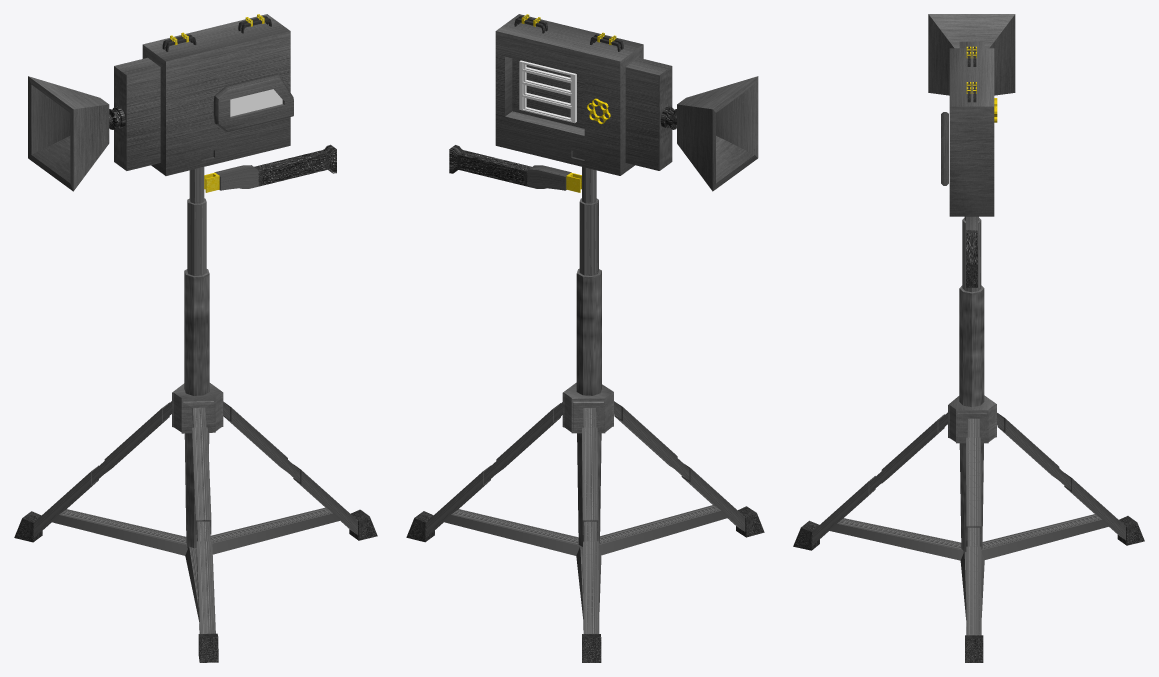
File: tripie.obj
The picture shows the model from 3 angles, left to right: view 1: azimuth 30°, elevation 25°; view 2: azimuth 150°, elevation 25°; view 3: azimuth 270°, elevation 25°; orthographic projection. The views are drawn at different scales.
Visible parts, largest first — view 1: FilmCam:polySurface1 polySurface13, FilmCam:polySurface1 polySurface21, FilmCam:polySurface1 polySurface25, FilmCam:polySurface1 polySurface15, FilmCam:polySurface1 polySurface12, FilmCam:polySurface1 polySurface19, textureEditorIsolateSelectSet FilmCam:polySurface1 polySurface15, FilmCam:polySurface1 polySurface22; view 2: FilmCam:polySurface1 polySurface13, FilmCam:polySurface1 polySurface21, FilmCam:polySurface1 polySurface25, FilmCam:polySurface1 polySurface15, FilmCam:polySurface1 polySurface19, FilmCam:polySurface1 polySurface2, textureEditorIsolateSelectSet FilmCam:polySurface1 polySurface15, FilmCam:polySurface1 polySurface24, FilmCam:polySurface1 polySurface23; view 3: FilmCam:polySurface1 polySurface21, FilmCam:polySurface1 polySurface13, FilmCam:polySurface1 polySurface15, FilmCam:polySurface1 polySurface25, FilmCam:polySurface1 polySurface19, FilmCam:polySurface1 polySurface12, FilmCam:polySurface1 polySurface23.
Part boxes in pixels (<box>): FilmCam:polySurface1 polySurface13: <box>114,14,290,175</box>; FilmCam:polySurface1 polySurface21: <box>34,383,357,633</box>; FilmCam:polySurface1 polySurface25: <box>184,167,209,548</box>; FilmCam:polySurface1 polySurface15: <box>28,76,109,191</box>; FilmCam:polySurface1 polySurface12: <box>213,74,293,132</box>; FilmCam:polySurface1 polySurface19: <box>214,144,336,190</box>; textureEditorIsolateSelectSet FilmCam:polySurface1 polySurface15: <box>31,136,70,182</box>; FilmCam:polySurface1 polySurface22: <box>198,633,218,662</box>; FilmCam:polySurface1 polySurface13: <box>495,14,672,175</box>; FilmCam:polySurface1 polySurface21: <box>426,382,745,633</box>; FilmCam:polySurface1 polySurface25: <box>576,167,601,547</box>; FilmCam:polySurface1 polySurface15: <box>677,76,758,191</box>; FilmCam:polySurface1 polySurface19: <box>449,145,571,190</box>; FilmCam:polySurface1 polySurface2: <box>519,60,576,123</box>; textureEditorIsolateSelectSet FilmCam:polySurface1 polySurface15: <box>716,136,754,182</box>; FilmCam:polySurface1 polySurface24: <box>582,634,601,662</box>; FilmCam:polySurface1 polySurface23: <box>406,511,434,542</box>; FilmCam:polySurface1 polySurface21: <box>812,395,1125,635</box>; FilmCam:polySurface1 polySurface13: <box>949,41,994,216</box>; FilmCam:polySurface1 polySurface15: <box>928,14,1015,95</box>; FilmCam:polySurface1 polySurface25: <box>959,216,984,552</box>; FilmCam:polySurface1 polySurface19: <box>966,216,977,287</box>; FilmCam:polySurface1 polySurface12: <box>941,112,948,185</box>; FilmCam:polySurface1 polySurface23: <box>965,635,983,662</box>.
Bounding box in the file's own units: 3.78 × 6.08 × 3.72.
17 materials, 16 textured.
